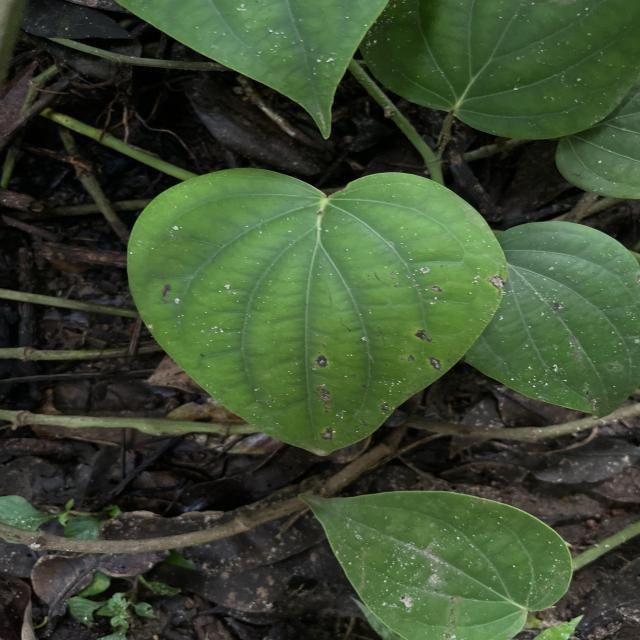Piper nigrum: (122, 162, 513, 460), (295, 486, 576, 640)
